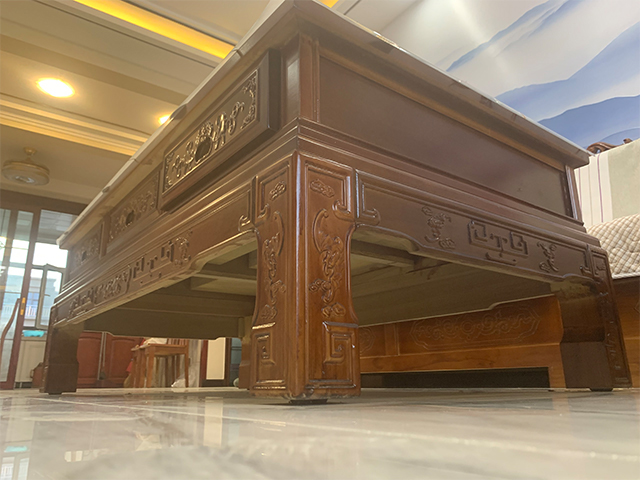cabinet: (78, 331, 141, 387)
stool: (130, 339, 191, 388)
table: (39, 1, 635, 406)
